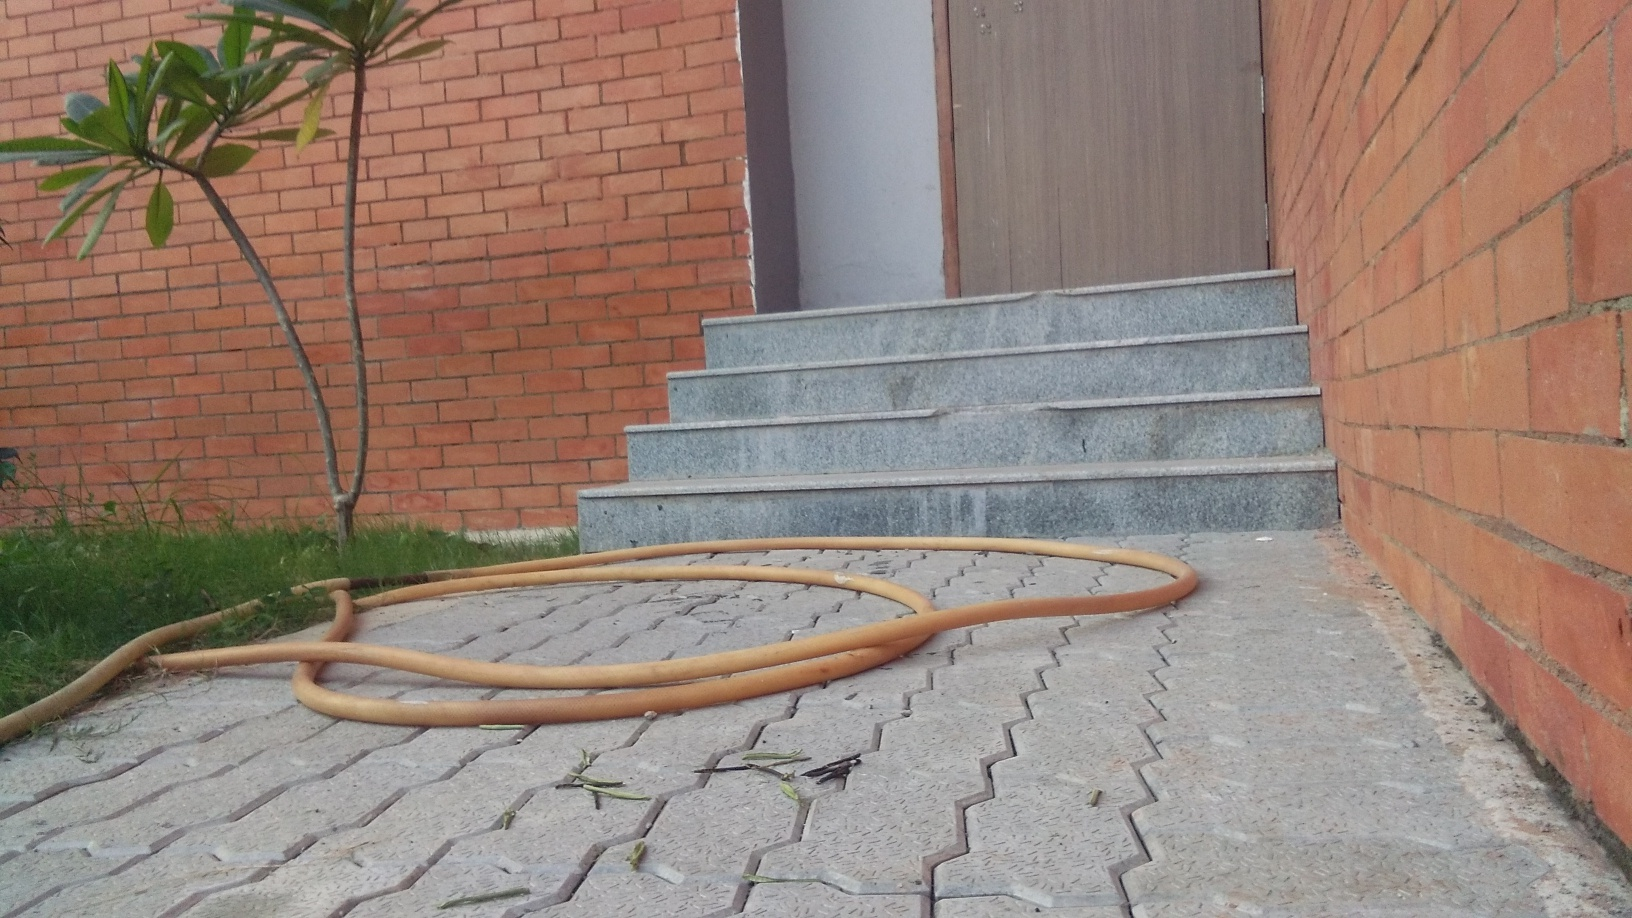stairs_up: (637, 287, 1333, 536)
